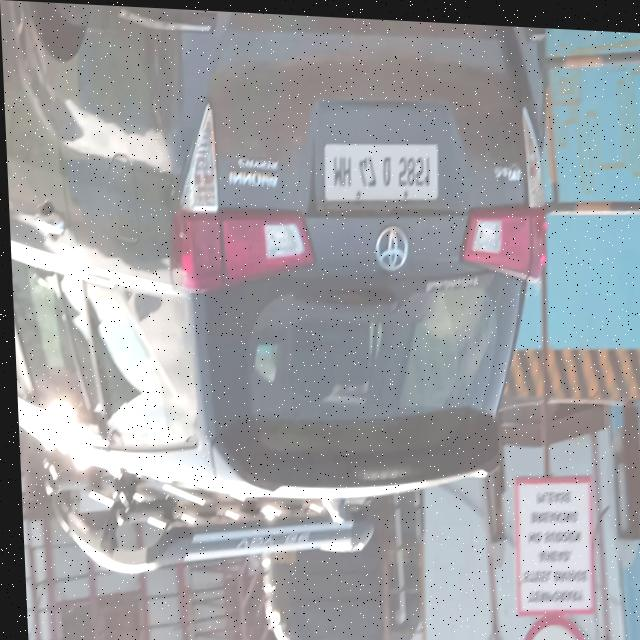plate: (323, 126, 441, 204)
